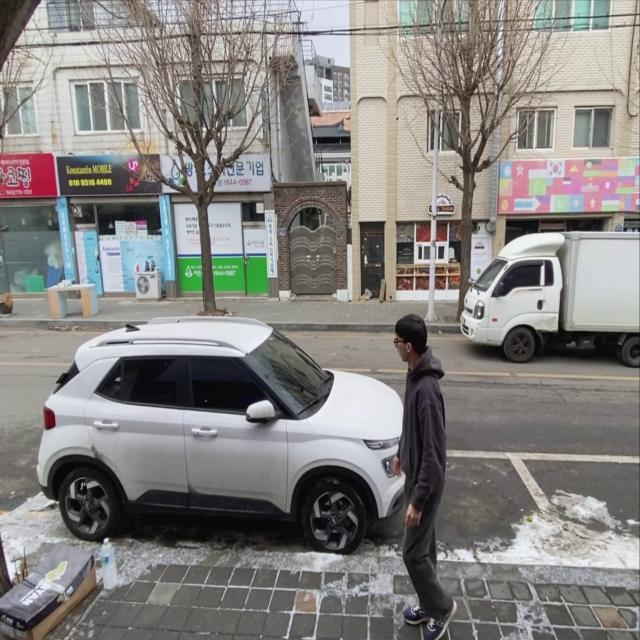bare_hand: (402, 502, 424, 531), (392, 454, 405, 484)
